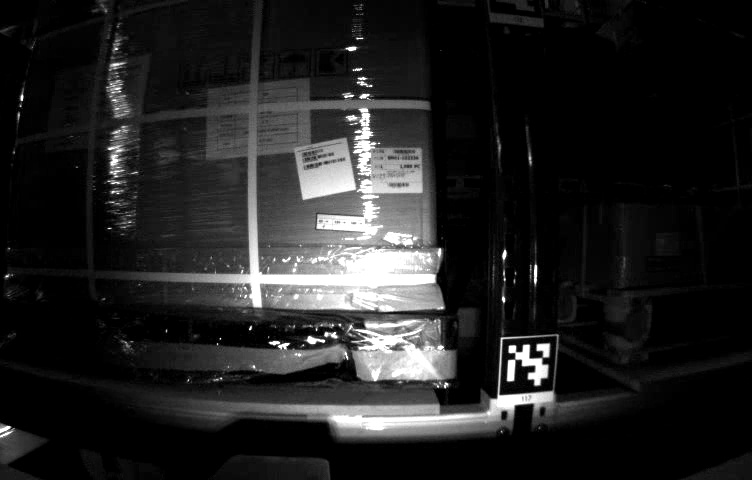True Barcode: (369, 146, 421, 193)
